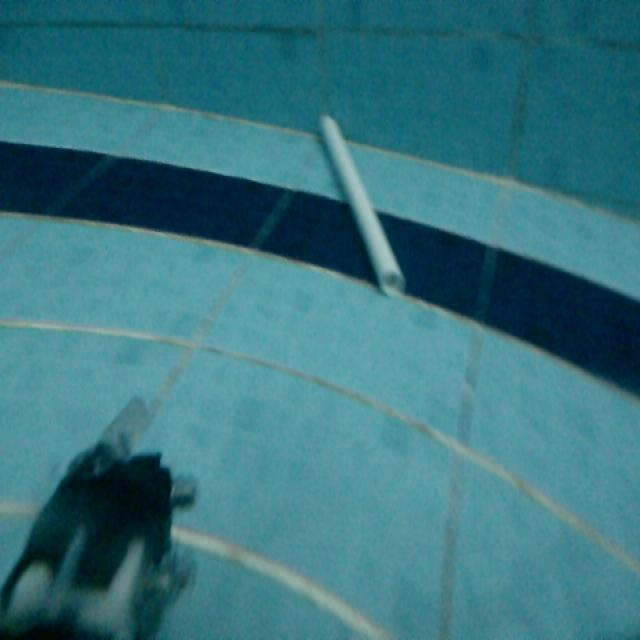Cube: (318, 117, 409, 306)
